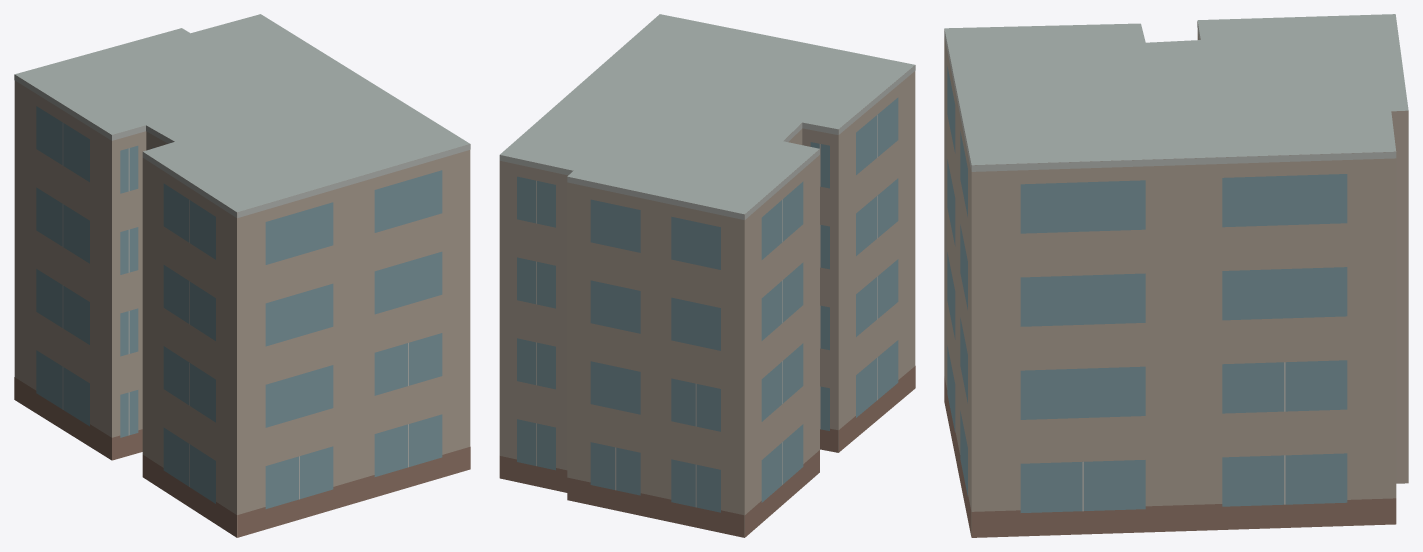
The model's file is survey-upis-32746326.glb.
3 renders of one model, left to right at view 1: azimuth 30°, elevation 25°; view 2: azimuth 150°, elevation 25°; view 3: azimuth 270°, elevation 25°, orthographic. The views are drawn at different scales.
Parts seen in each view (by area): view 1: survey-upis-32746326.tmp; view 2: survey-upis-32746326.tmp; view 3: survey-upis-32746326.tmp.
Boxes of the visible parts, bbox=[...] form: survey-upis-32746326.tmp: bbox=[14, 14, 470, 537]; survey-upis-32746326.tmp: bbox=[499, 14, 915, 537]; survey-upis-32746326.tmp: bbox=[944, 14, 1408, 537].
Bounding box in the file's own units: 11.76 × 13.5 × 15.26.
